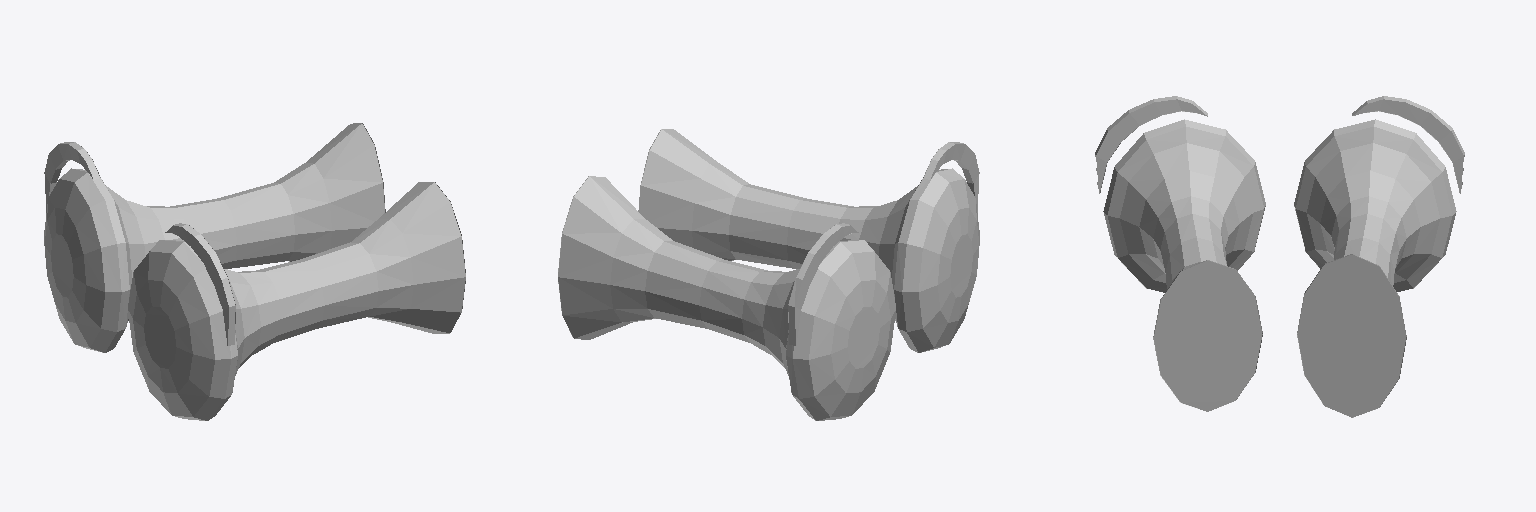
File: Eyes.obj
3 renders of one model, left to right at view 1: azimuth 30°, elevation 25°; view 2: azimuth 150°, elevation 25°; view 3: azimuth 270°, elevation 25°, orthographic.
Parts seen in each view (by area): view 1: Handle2; view 2: Handle2; view 3: Handle2.
Part boxes in pixels (left/top/right/bottom): Handle2: left=44, top=123, right=465, bottom=420; Handle2: left=558, top=129, right=979, bottom=420; Handle2: left=1095, top=96, right=1464, bottom=417.
Bounding box in the file's own units: 9.82 × 6.3 × 10.66.